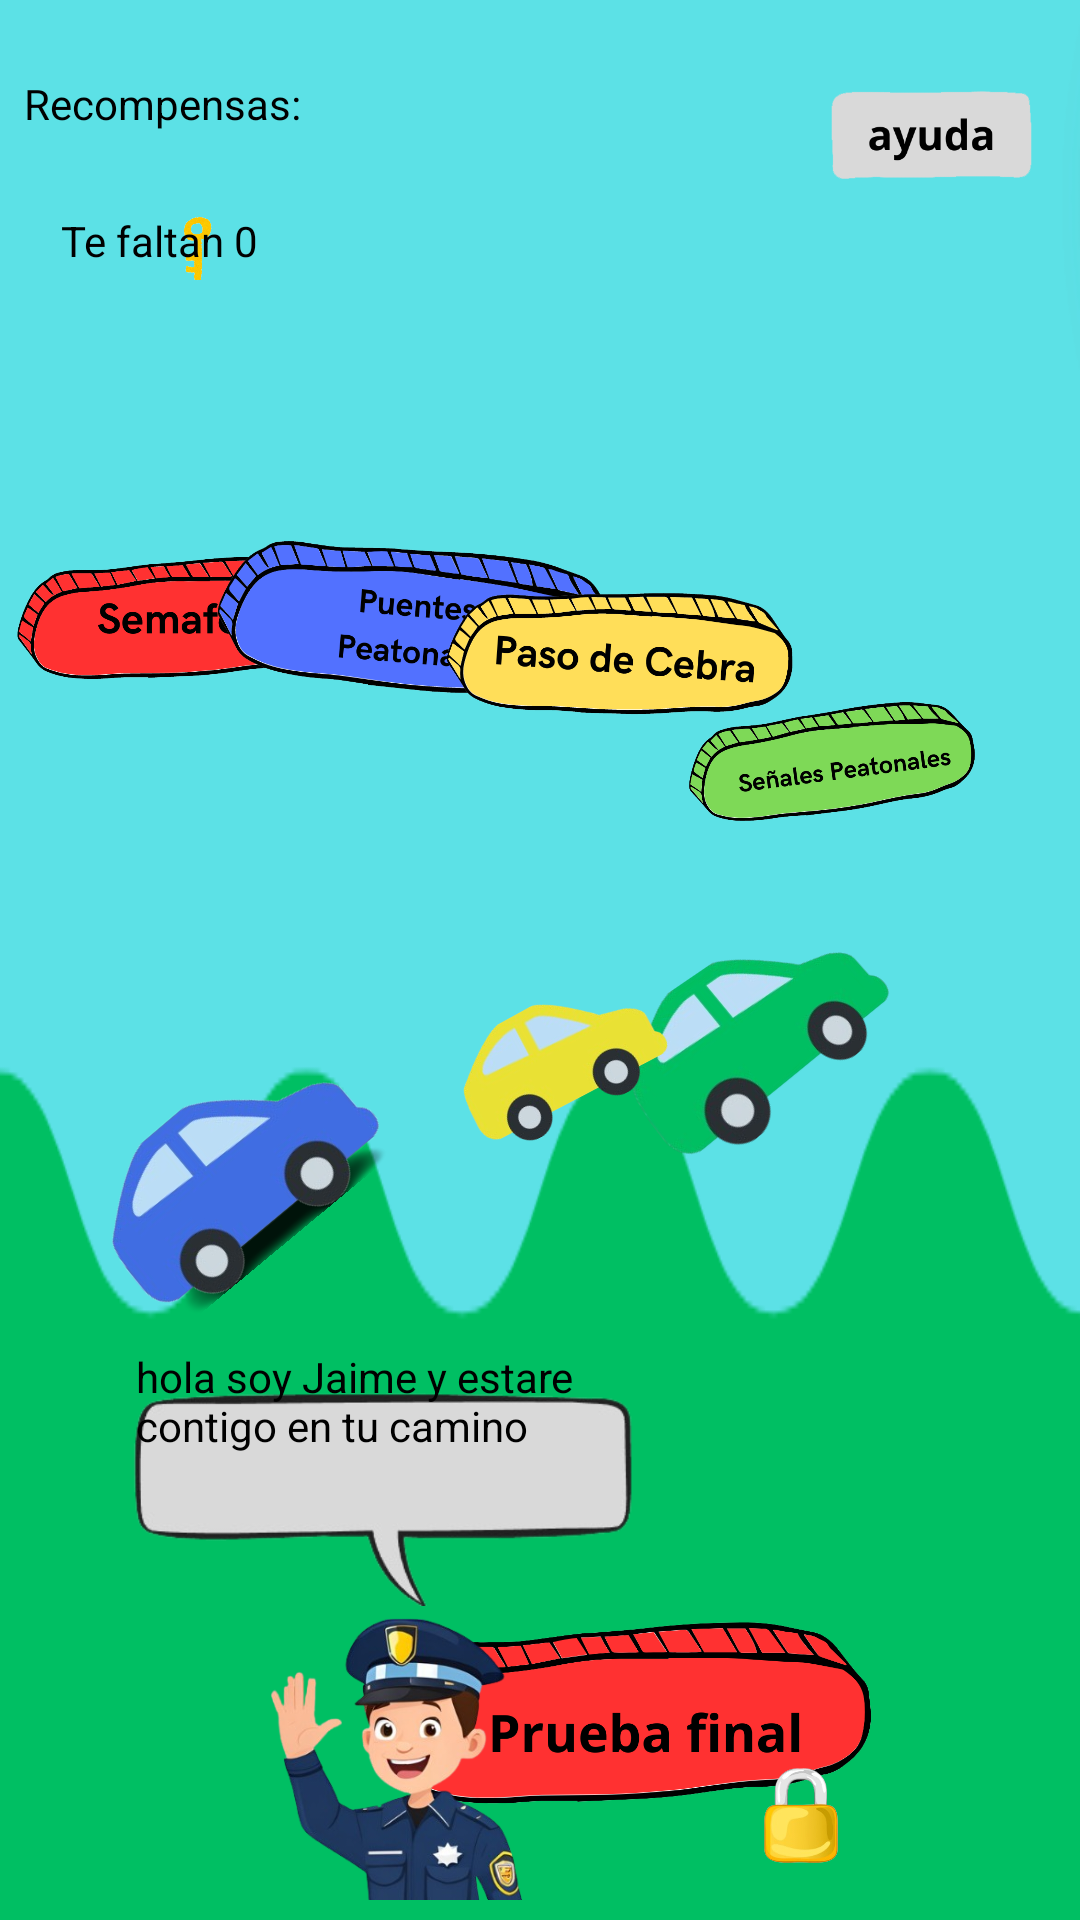

Where icons sit on this 1080px x 1920px app screen, as (x1, y1, x2, y2):
personaje del juego: (271, 1619, 552, 1900)
